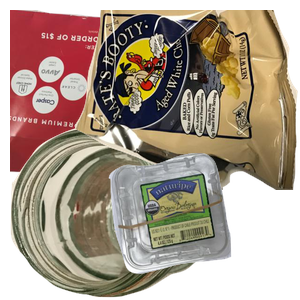glass: (10, 126, 220, 300)
paper: (10, 10, 238, 190)
plastic: (106, 151, 300, 300)
trash: (75, 10, 300, 190)
